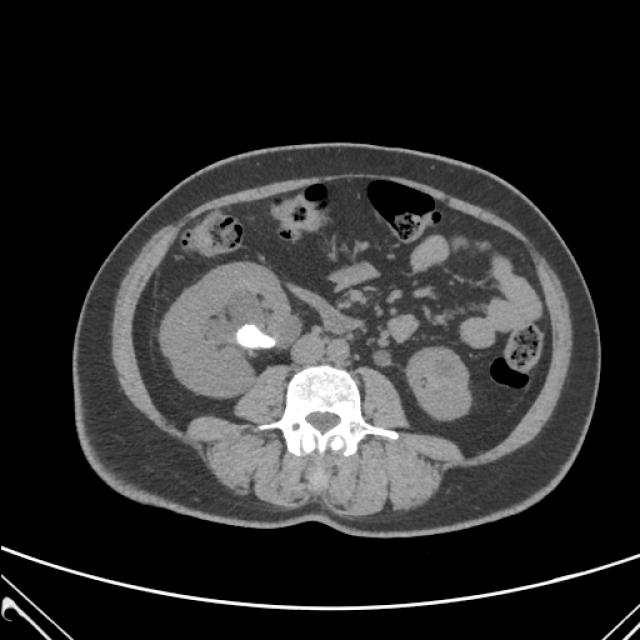kidney: (154, 256, 305, 403), (397, 329, 481, 427)
stone: (229, 315, 286, 356)
